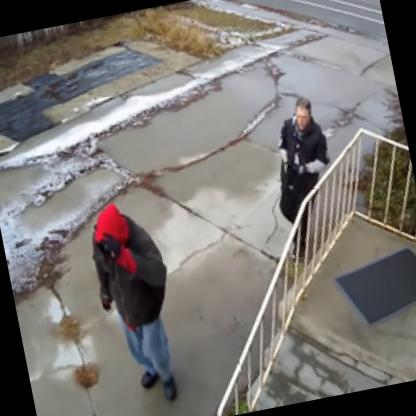Human Body: (71, 189, 199, 415), (254, 90, 351, 256)
